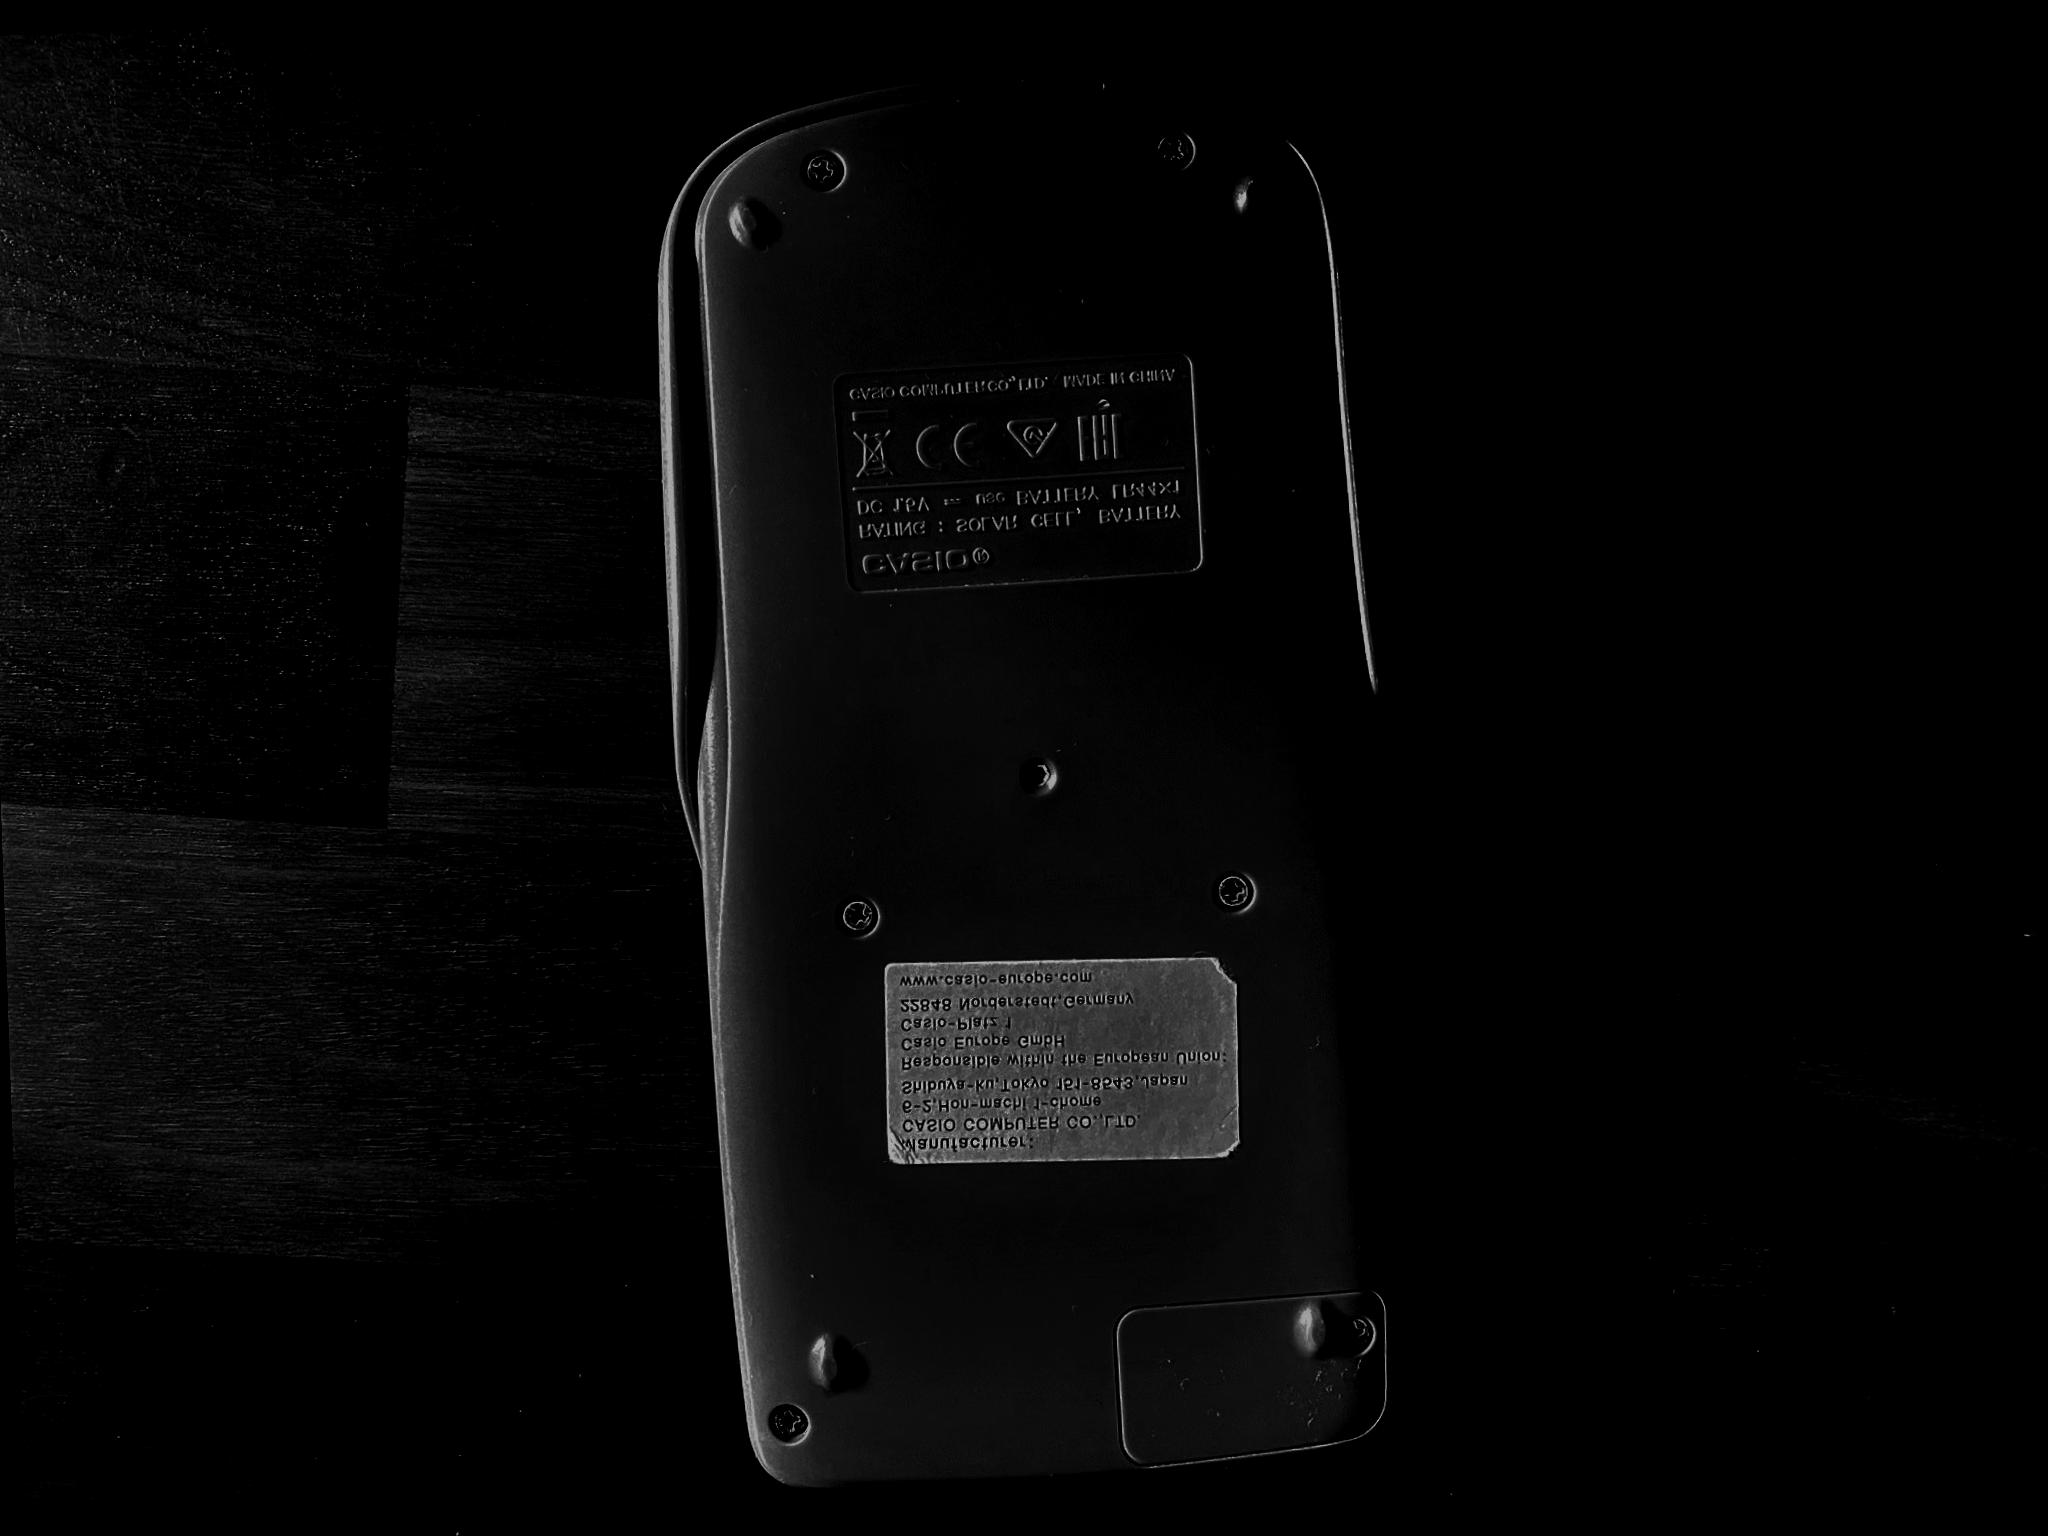screw: (1337, 1312, 1377, 1357), (1151, 129, 1197, 169), (764, 1404, 813, 1441), (801, 150, 843, 192), (1213, 873, 1256, 910), (839, 899, 877, 936)
